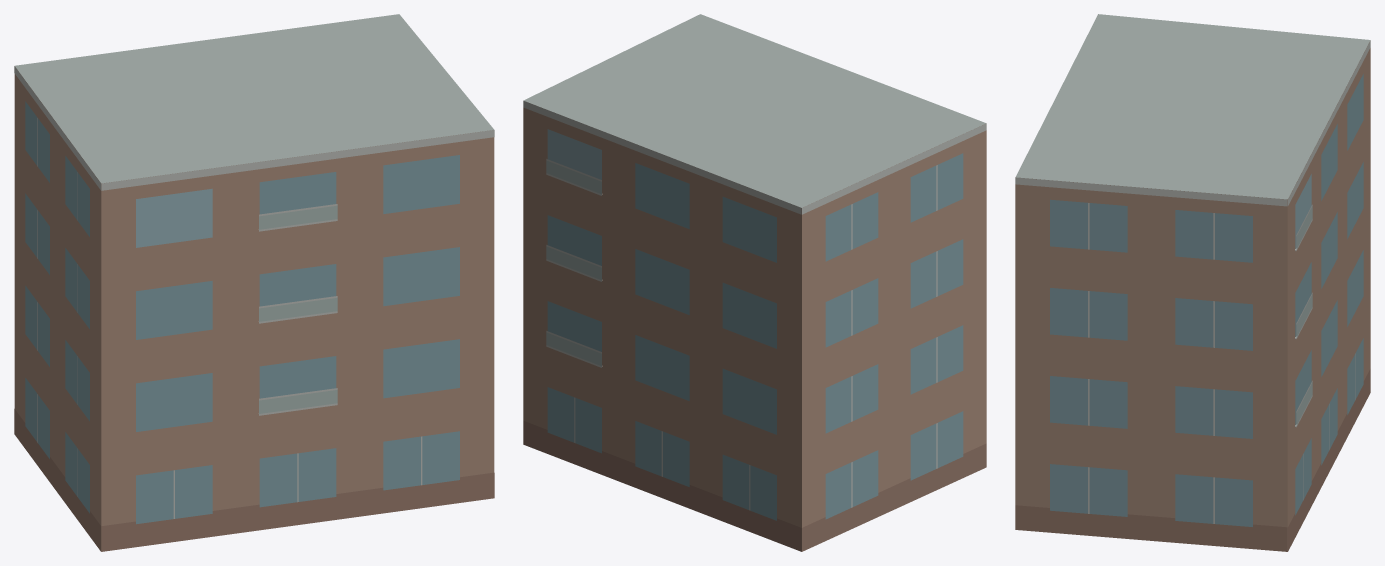
The model's file is survey-upis-32647858.glb.
The picture shows the model from 3 angles, left to right: view 1: azimuth 30°, elevation 25°; view 2: azimuth 150°, elevation 25°; view 3: azimuth 270°, elevation 25°; orthographic projection. The views are drawn at different scales.
Parts seen in each view (by area): view 1: survey-upis-32647858.tmp; view 2: survey-upis-32647858.tmp; view 3: survey-upis-32647858.tmp.
Boxes of the visible parts, x1,y1,x2,y2 form: survey-upis-32647858.tmp: [14, 14, 494, 551]; survey-upis-32647858.tmp: [523, 14, 986, 551]; survey-upis-32647858.tmp: [1015, 14, 1370, 551].
Bounding box in the file's own units: 13.78 × 12.2 × 11.16.
